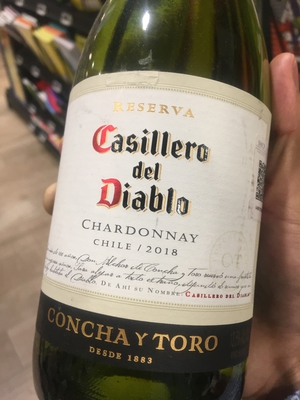casillero del diablo chardonnay: (47, 20, 272, 400)
